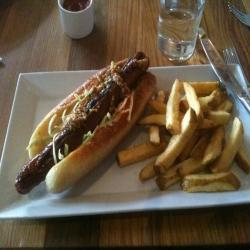fries: (161, 95, 232, 184)
hotdog: (12, 44, 158, 195)
